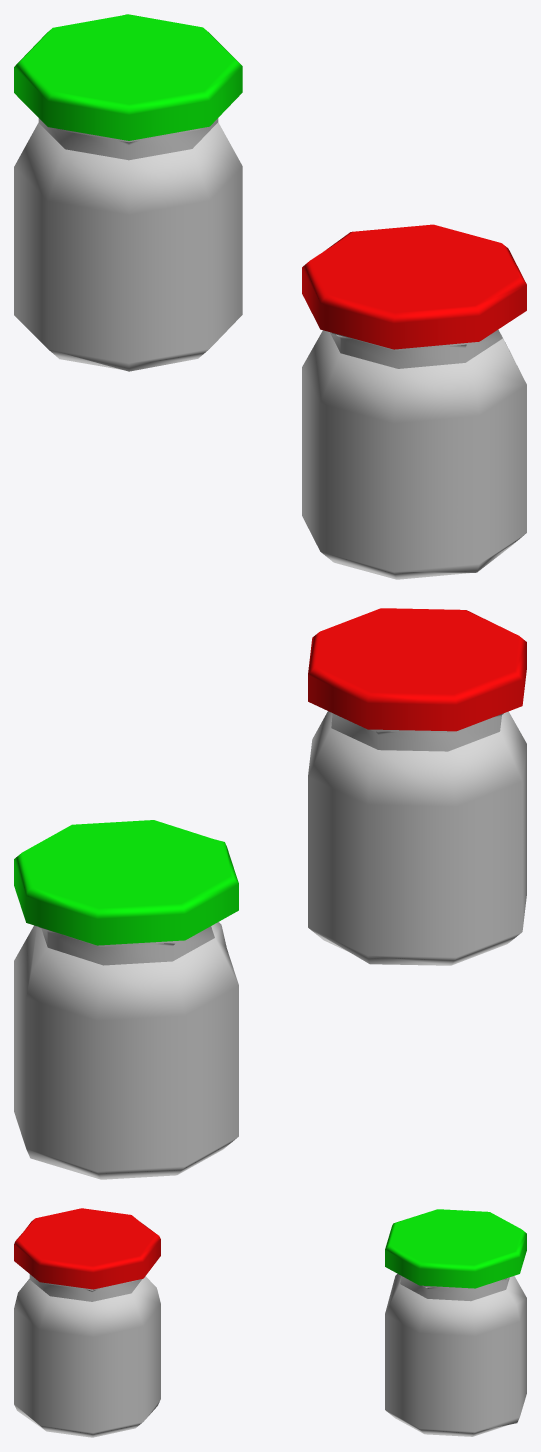
File: Jars.fbx
3 views of the same model, one above another, from view 1: azimuth 30°, elevation 25°; view 2: azimuth 150°, elevation 25°; view 3: azimuth 270°, elevation 25° (orthographic). The views are drawn at different scales.
Visible parts, largest first — view 1: green_jar_body, red_jar_body, green_jar_lid, red_jar_lid; view 2: green_jar_body, red_jar_body, green_jar_lid, red_jar_lid; view 3: red_jar_body, green_jar_body, red_jar_lid, green_jar_lid.
Part boxes in pixels (x1,y1,x2,y2): green_jar_body: [14, 118, 242, 371]; red_jar_body: [302, 329, 526, 579]; green_jar_lid: [14, 14, 242, 140]; red_jar_lid: [302, 224, 526, 349]; green_jar_body: [14, 922, 238, 1179]; red_jar_body: [308, 711, 526, 965]; green_jar_lid: [14, 820, 238, 945]; red_jar_lid: [308, 608, 526, 731]; red_jar_body: [14, 1274, 160, 1437]; green_jar_body: [385, 1273, 526, 1436]; red_jar_lid: [14, 1208, 160, 1289]; green_jar_lid: [385, 1209, 526, 1288].
Size of the model in its own units: 558 by 730 by 1949.
